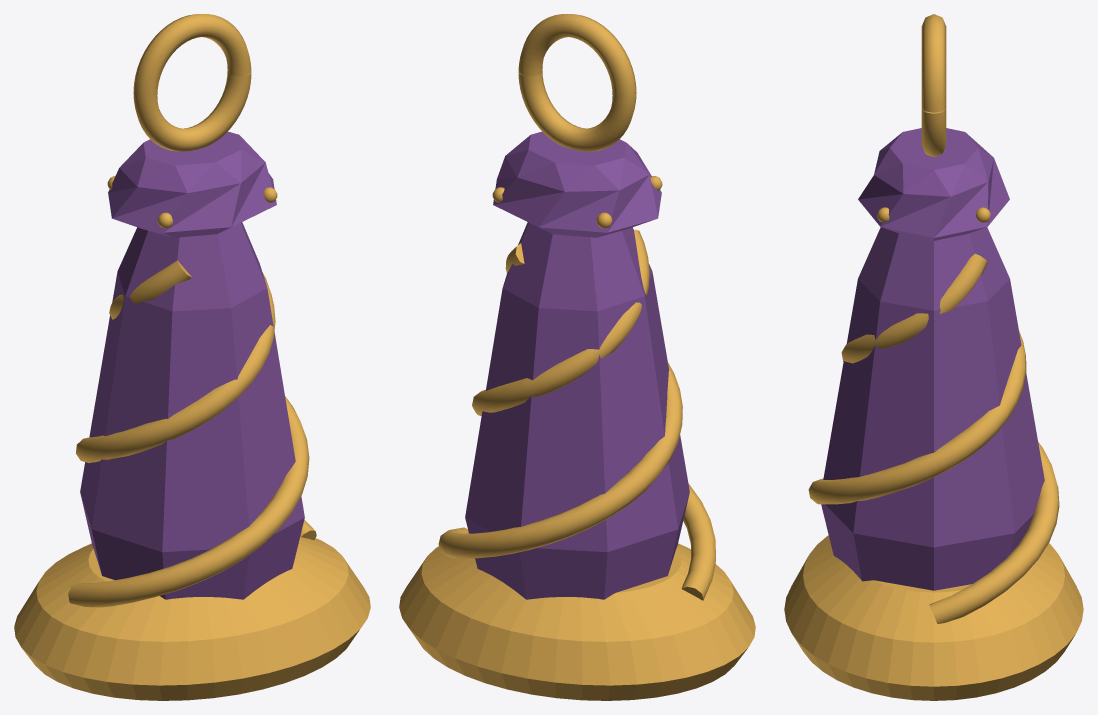
Rendered from intaglio_seal.fbx.
3 renders of one model, left to right at view 1: azimuth 30°, elevation 25°; view 2: azimuth 150°, elevation 25°; view 3: azimuth 270°, elevation 25°, orthographic. The views are drawn at different scales.
Visible parts, largest first — view 1: intaglio_seal joinery; view 2: intaglio_seal joinery; view 3: intaglio_seal joinery.
Part boxes in pixels (left/top/right/bottom): intaglio_seal joinery: left=14, top=14, right=370, bottom=700; intaglio_seal joinery: left=399, top=14, right=755, bottom=700; intaglio_seal joinery: left=784, top=14, right=1083, bottom=700.
Bounding box in the file's own units: 0.048 × 0.0886 × 0.0394.
